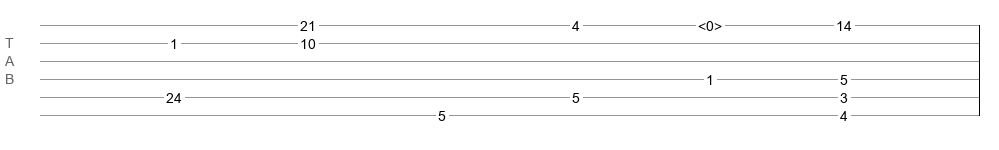1: (170, 36, 178, 46), (706, 72, 714, 82)
10: (300, 36, 316, 46)
14: (836, 18, 852, 28)
21: (300, 18, 316, 28)
24: (166, 90, 182, 100)
3: (840, 90, 848, 100)
4: (572, 18, 580, 28), (840, 108, 848, 118)
5: (438, 108, 446, 118), (572, 90, 580, 100), (840, 72, 848, 82)
harmonic: (698, 18, 722, 28)
